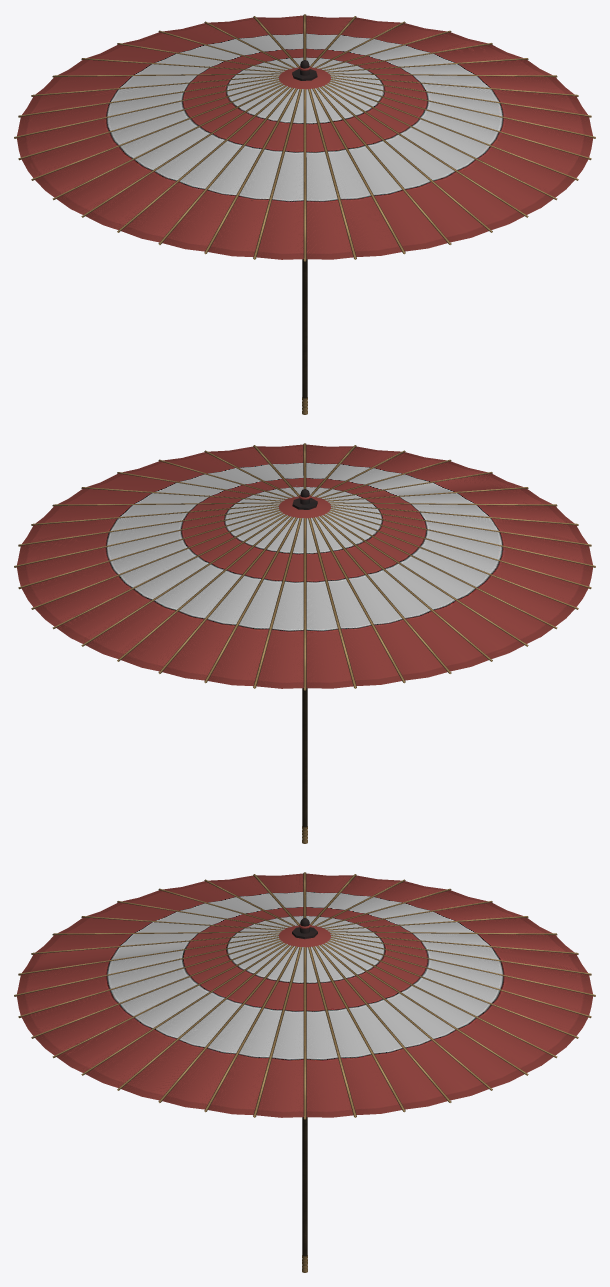
File: SM_ENV_LKNVLD_Umbrella_A.FBX
3 views of the same model, one above another, from view 1: azimuth 30°, elevation 25°; view 2: azimuth 150°, elevation 25°; view 3: azimuth 270°, elevation 25° (orthographic).
Visible parts, largest first — view 1: SM_ENV_LKNVLD_Umbrella_A; view 2: SM_ENV_LKNVLD_Umbrella_A; view 3: SM_ENV_LKNVLD_Umbrella_A.
Part boxes in pixels (x1,y1,x2,y2): SM_ENV_LKNVLD_Umbrella_A: (14, 14, 595, 414); SM_ENV_LKNVLD_Umbrella_A: (14, 443, 595, 843); SM_ENV_LKNVLD_Umbrella_A: (14, 872, 595, 1272).
Bounding box in the file's own units: 395 × 265 × 395.
